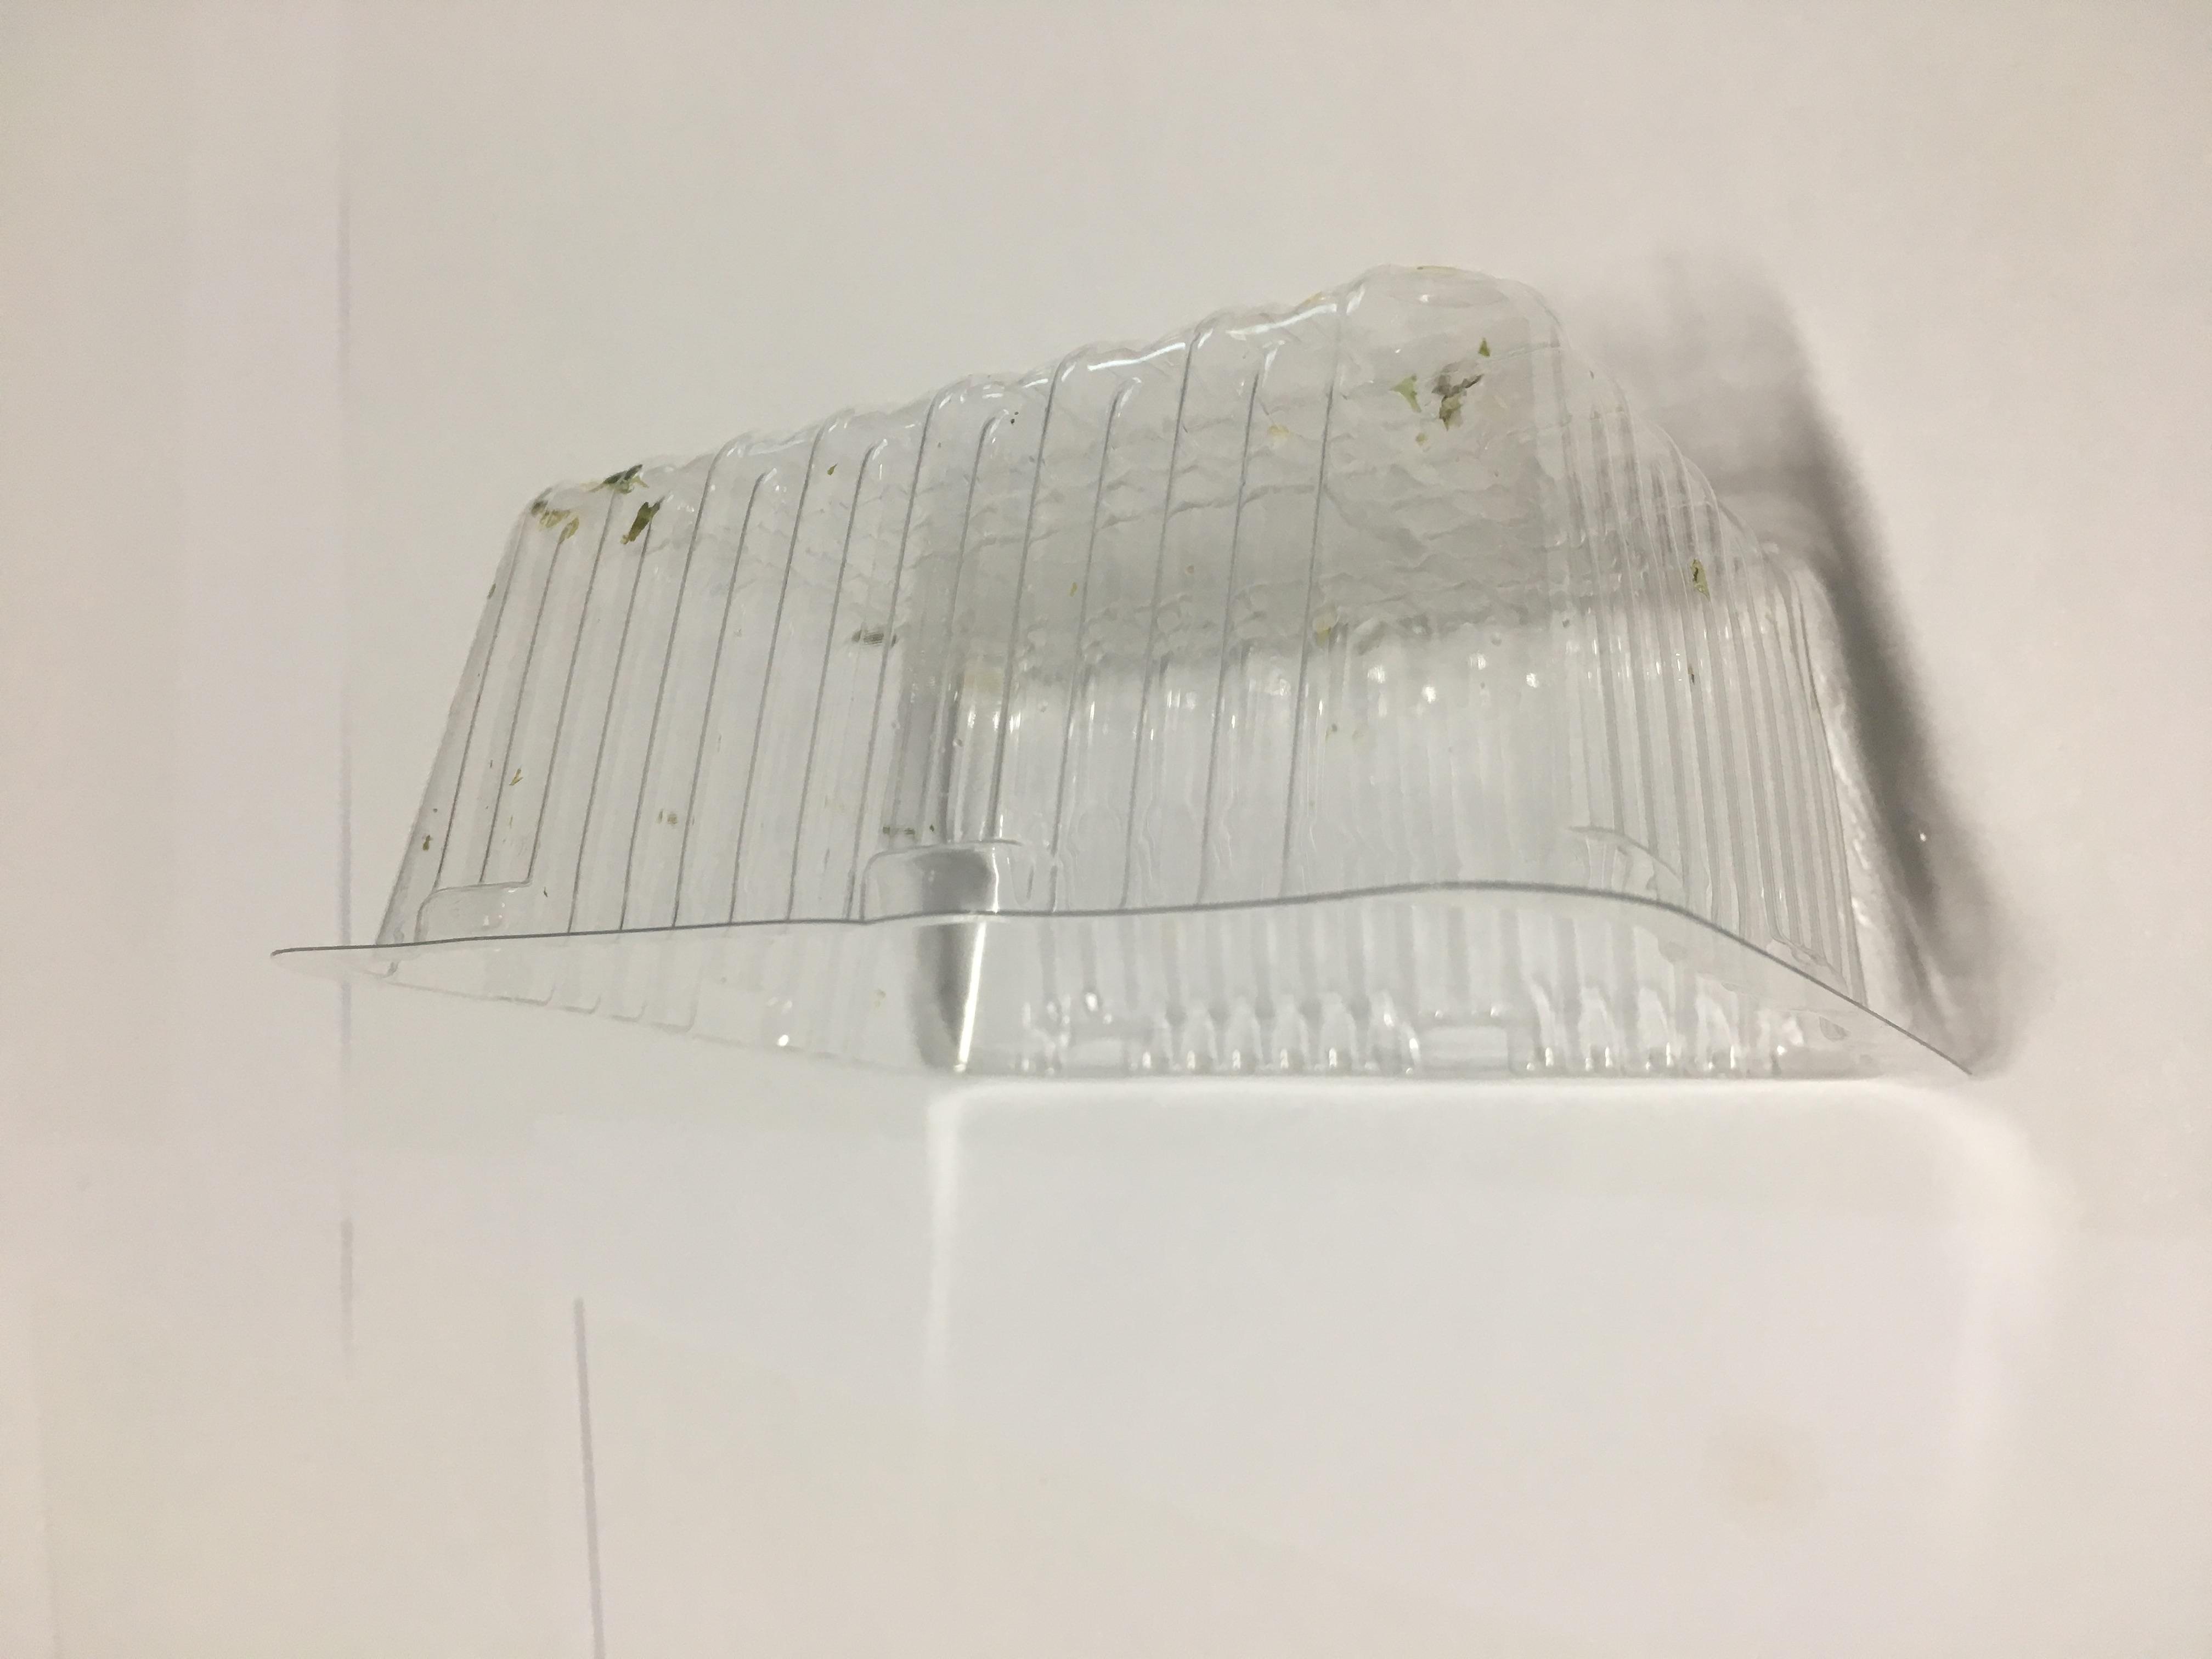bottle: (498, 836, 1742, 866)
